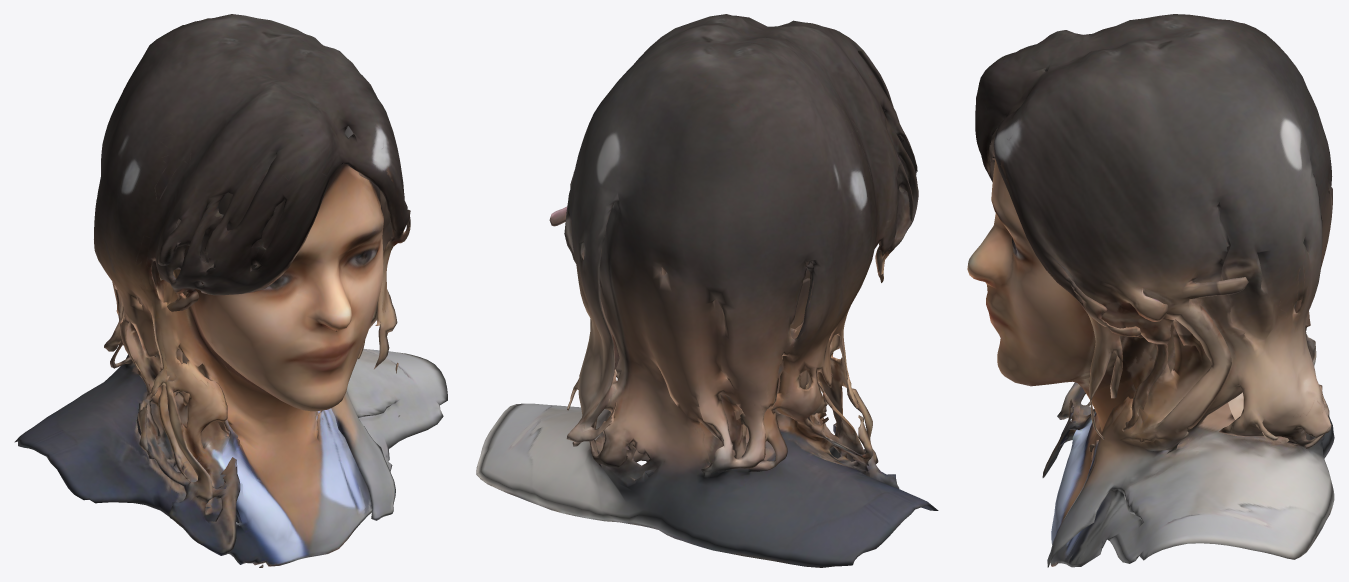
Rendered from Portrait_of_a_Young_P_0929171744_ciclpy.glb.
3 renders of one model, left to right at view 1: azimuth 30°, elevation 25°; view 2: azimuth 150°, elevation 25°; view 3: azimuth 270°, elevation 25°, orthographic. The views are drawn at different scales.
Size of the model in its own units: 1.66 by 1.98 by 1.27.
1 material, 1 textured.
